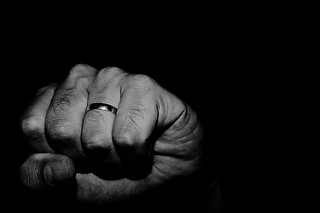fist: (28, 73, 210, 191)
